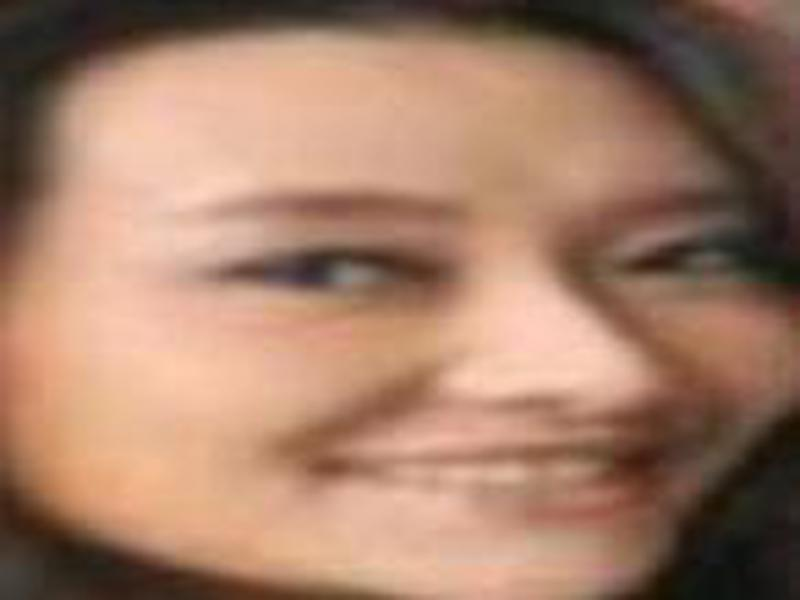without_mask: (17, 25, 800, 600)
